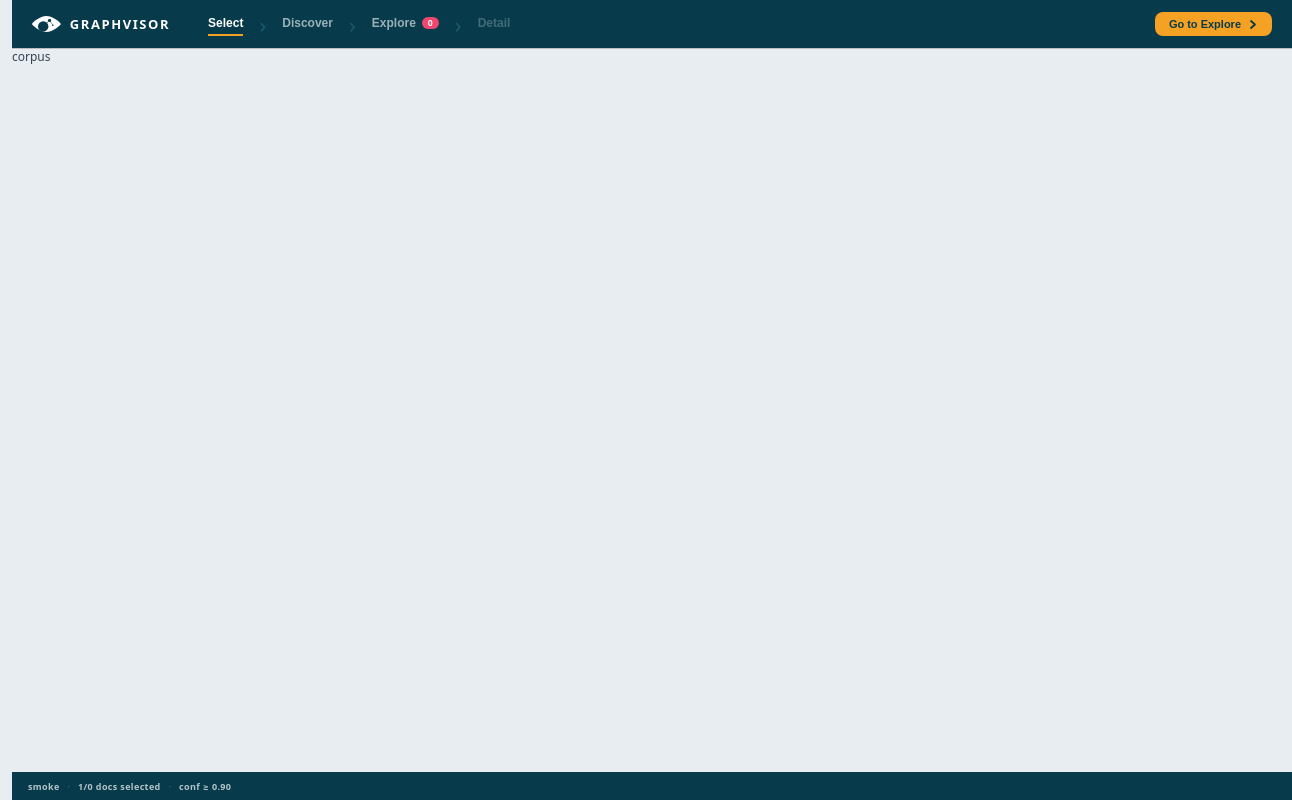
Scenario: Shell navigation › without hypotheses, Explore opens straight from the document selection
This screenshot has width=1292, height=800.
Expected: the button "Explore 0" is enabled, [358,12,453,36]
Click the button "Go to Explore".
click(1213, 24)  # box [1155,12,1272,36]
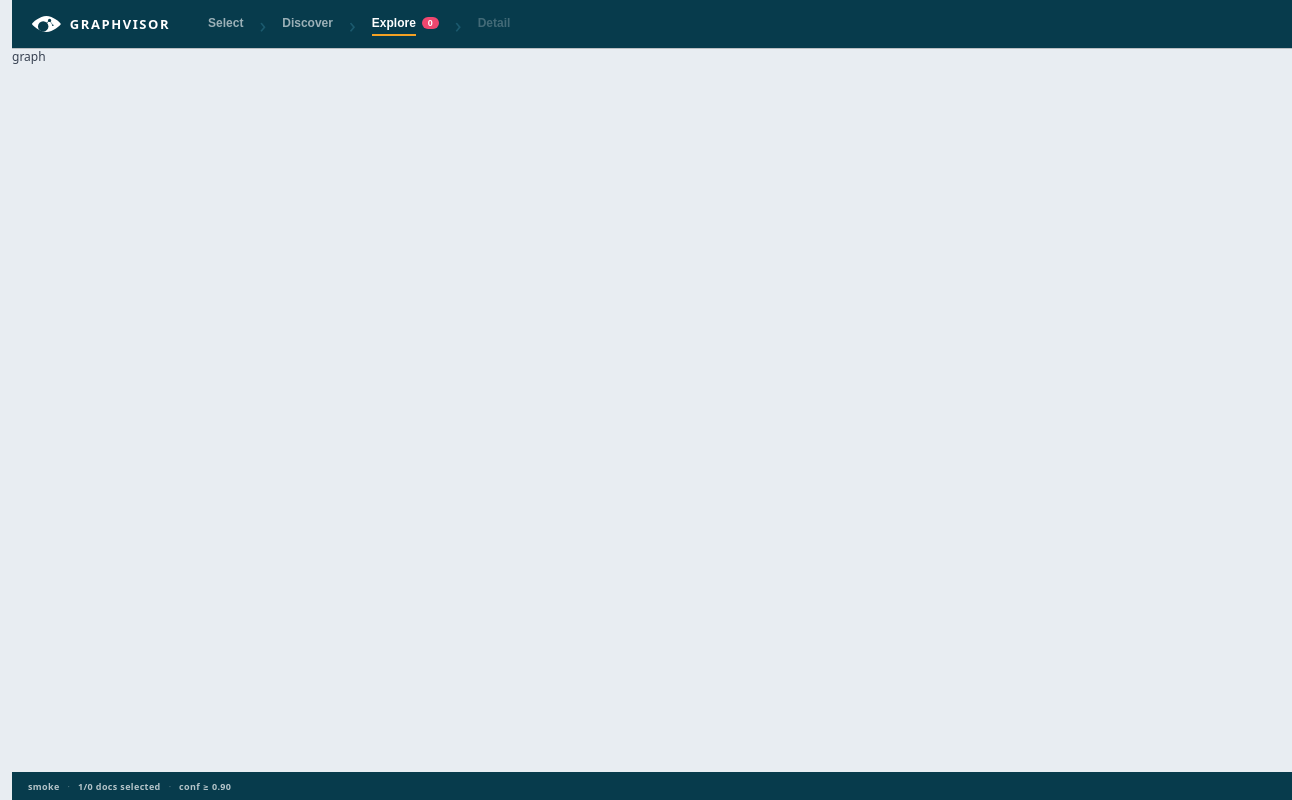
Result: the text "graph" is shown at [12,48,46,65]
